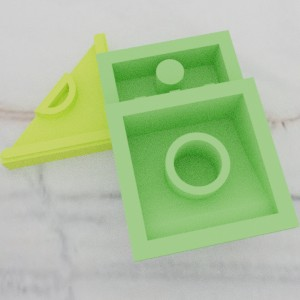lego: (95, 29, 299, 262), (0, 32, 127, 169)
